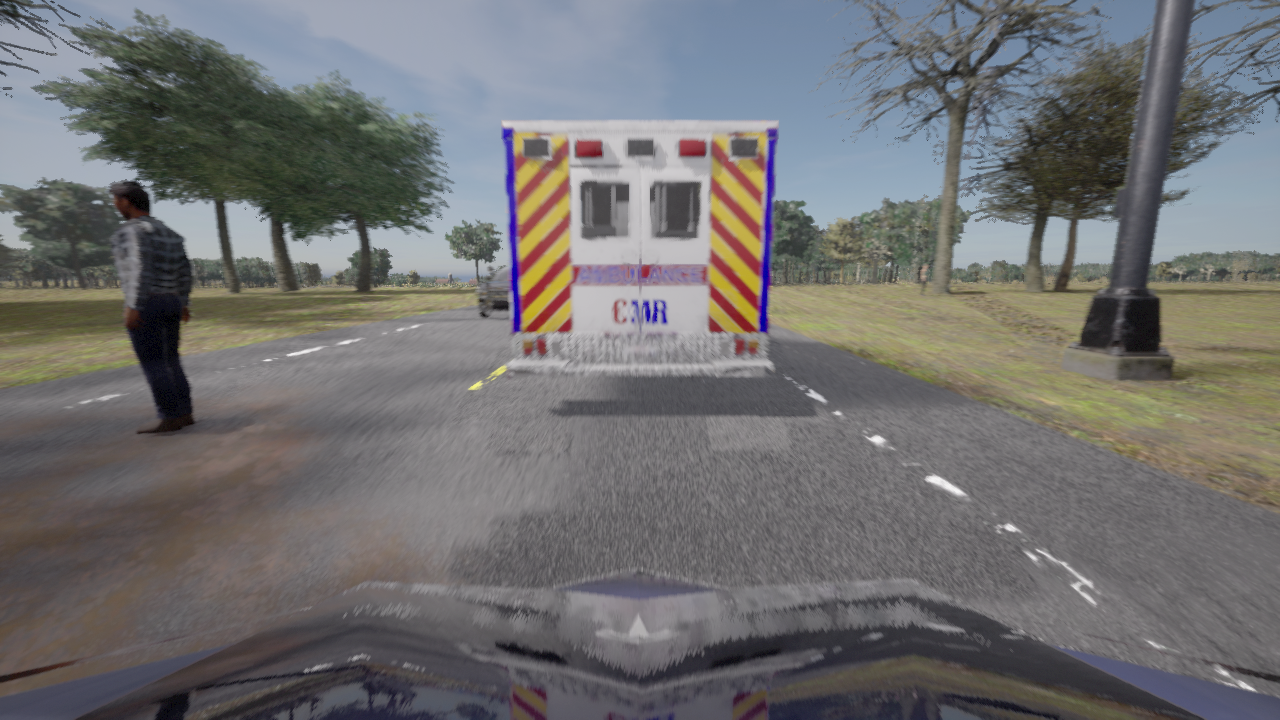cyclist: (0, 569, 1279, 719), (502, 121, 777, 378), (477, 266, 510, 317)
pedestrian: (107, 180, 195, 434), (920, 264, 927, 295)
